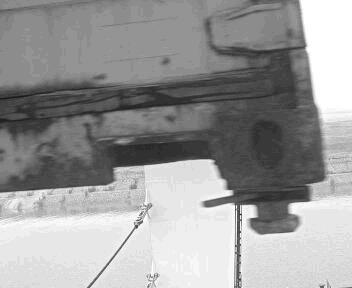twist_lock_1: (230, 178, 322, 240)
